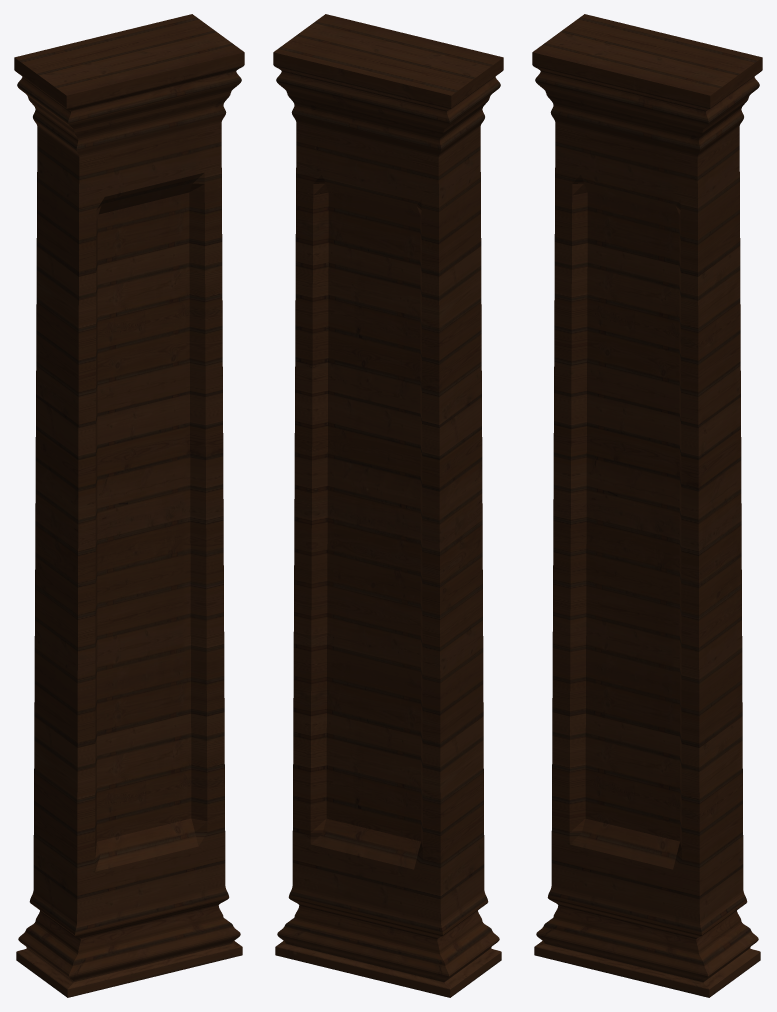
Rendered from building.glb.
The picture shows the model from 3 angles, left to right: view 1: azimuth 30°, elevation 25°; view 2: azimuth 150°, elevation 25°; view 3: azimuth 330°, elevation 25°; orthographic projection.
Parts seen in each view (by area): view 1: vertical_member/madera_joinery_pilaster/member_shaft#0001, vertical_member/madera_joinery_pilaster/member_capital#0001, vertical_member/madera_joinery_pilaster/member_base#0001; view 2: vertical_member/madera_joinery_pilaster/member_shaft#0001, vertical_member/madera_joinery_pilaster/member_capital#0001, vertical_member/madera_joinery_pilaster/member_base#0001; view 3: vertical_member/madera_joinery_pilaster/member_shaft#0001, vertical_member/madera_joinery_pilaster/member_capital#0001, vertical_member/madera_joinery_pilaster/member_base#0001.
Part boxes in pixels (bbox=[...]): vertical_member/madera_joinery_pilaster/member_shaft#0001: bbox=[33, 122, 225, 921]; vertical_member/madera_joinery_pilaster/member_capital#0001: bbox=[14, 14, 244, 157]; vertical_member/madera_joinery_pilaster/member_base#0001: bbox=[16, 886, 242, 997]; vertical_member/madera_joinery_pilaster/member_shaft#0001: bbox=[292, 122, 484, 921]; vertical_member/madera_joinery_pilaster/member_capital#0001: bbox=[273, 14, 503, 157]; vertical_member/madera_joinery_pilaster/member_base#0001: bbox=[275, 886, 501, 997]; vertical_member/madera_joinery_pilaster/member_shaft#0001: bbox=[551, 122, 743, 921]; vertical_member/madera_joinery_pilaster/member_capital#0001: bbox=[532, 14, 762, 157]; vertical_member/madera_joinery_pilaster/member_base#0001: bbox=[534, 886, 760, 997].
Bounding box in the file's own units: 0.66 × 3.2 × 0.336.
1 material, 1 textured.
